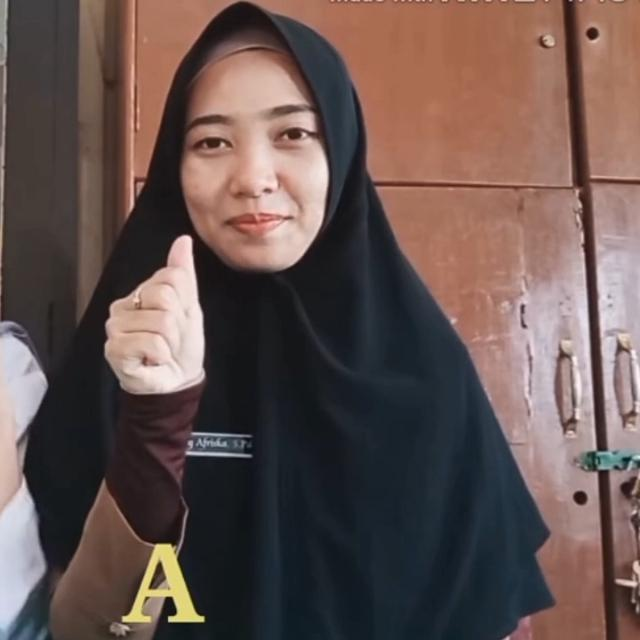A: (103, 228, 209, 416)
